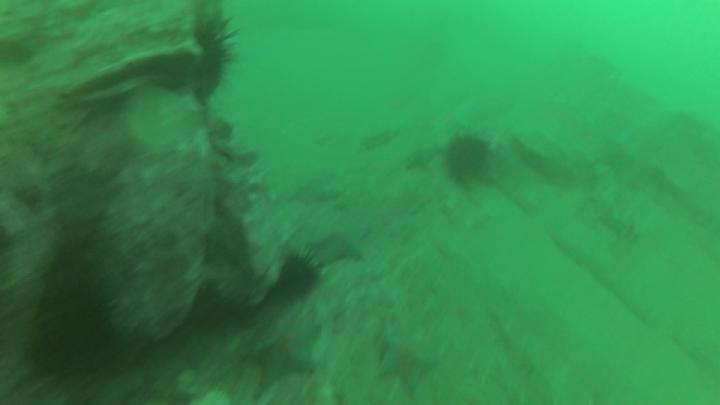echinus: (447, 137, 490, 180), (280, 257, 321, 298)
starfish: (248, 320, 321, 386), (382, 334, 438, 392), (310, 223, 367, 262), (296, 174, 336, 207)
